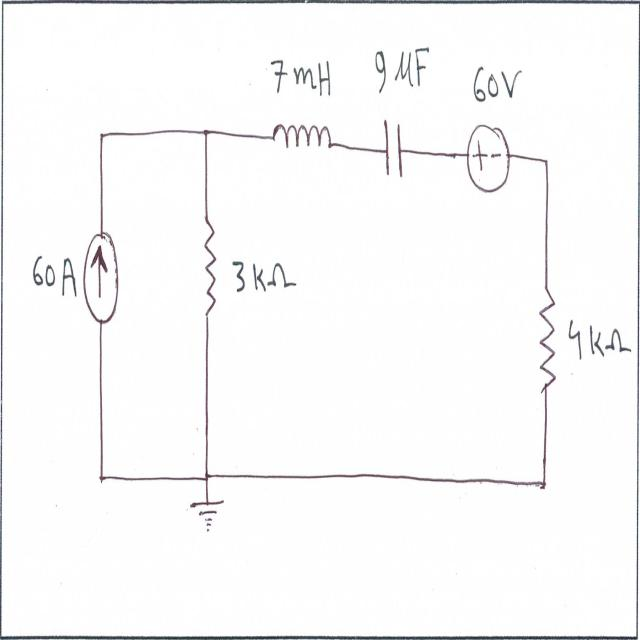capacitor: (383, 113, 406, 183)
current_source: (82, 230, 122, 329)
ground: (188, 494, 228, 538)
inductor: (269, 112, 335, 158)
resistor: (530, 274, 558, 394), (198, 208, 220, 325)
voltage_source: (466, 120, 514, 196)
